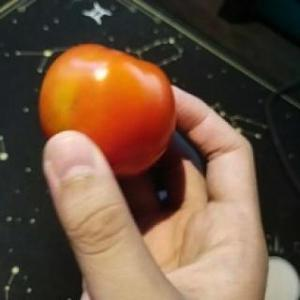tomato: (28, 36, 182, 183)
